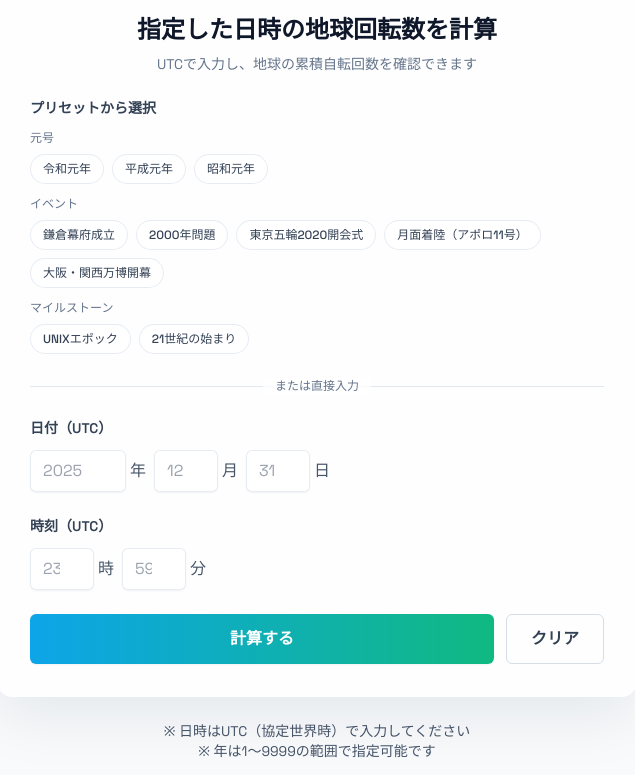
it: DateTimeInput › プリセット機能 › プリセットをクリックすると入力値が反映されること
The image size is (635, 775).
// 令和元年を選択（2019年4月30日 15:00 UTC）
Click the button with aria-label "令和元年を選択" at (67, 169), box [30, 154, 104, 184]
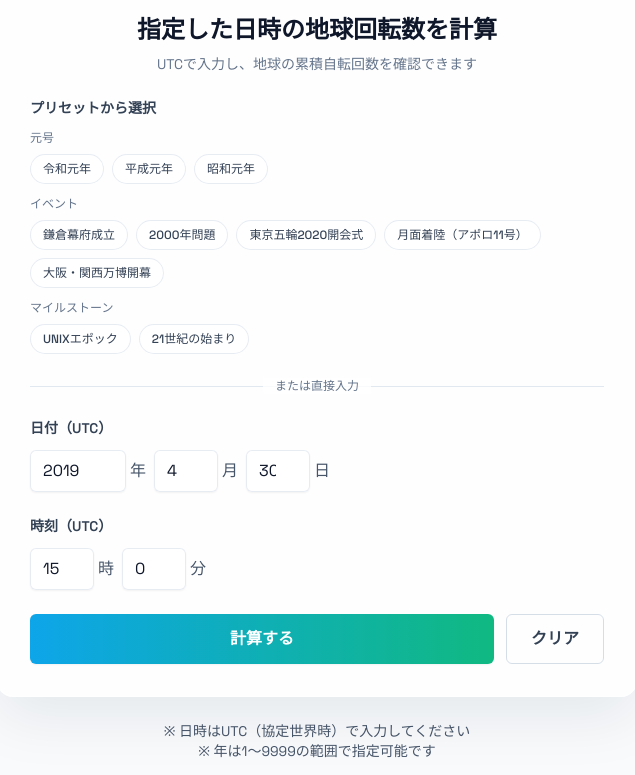
Now the field named "年" holds "2019", box [30, 450, 126, 492]
Now the field named "月" holds "4", box [154, 450, 218, 492]
Now the field named "日" holds "30", box [246, 450, 310, 492]
